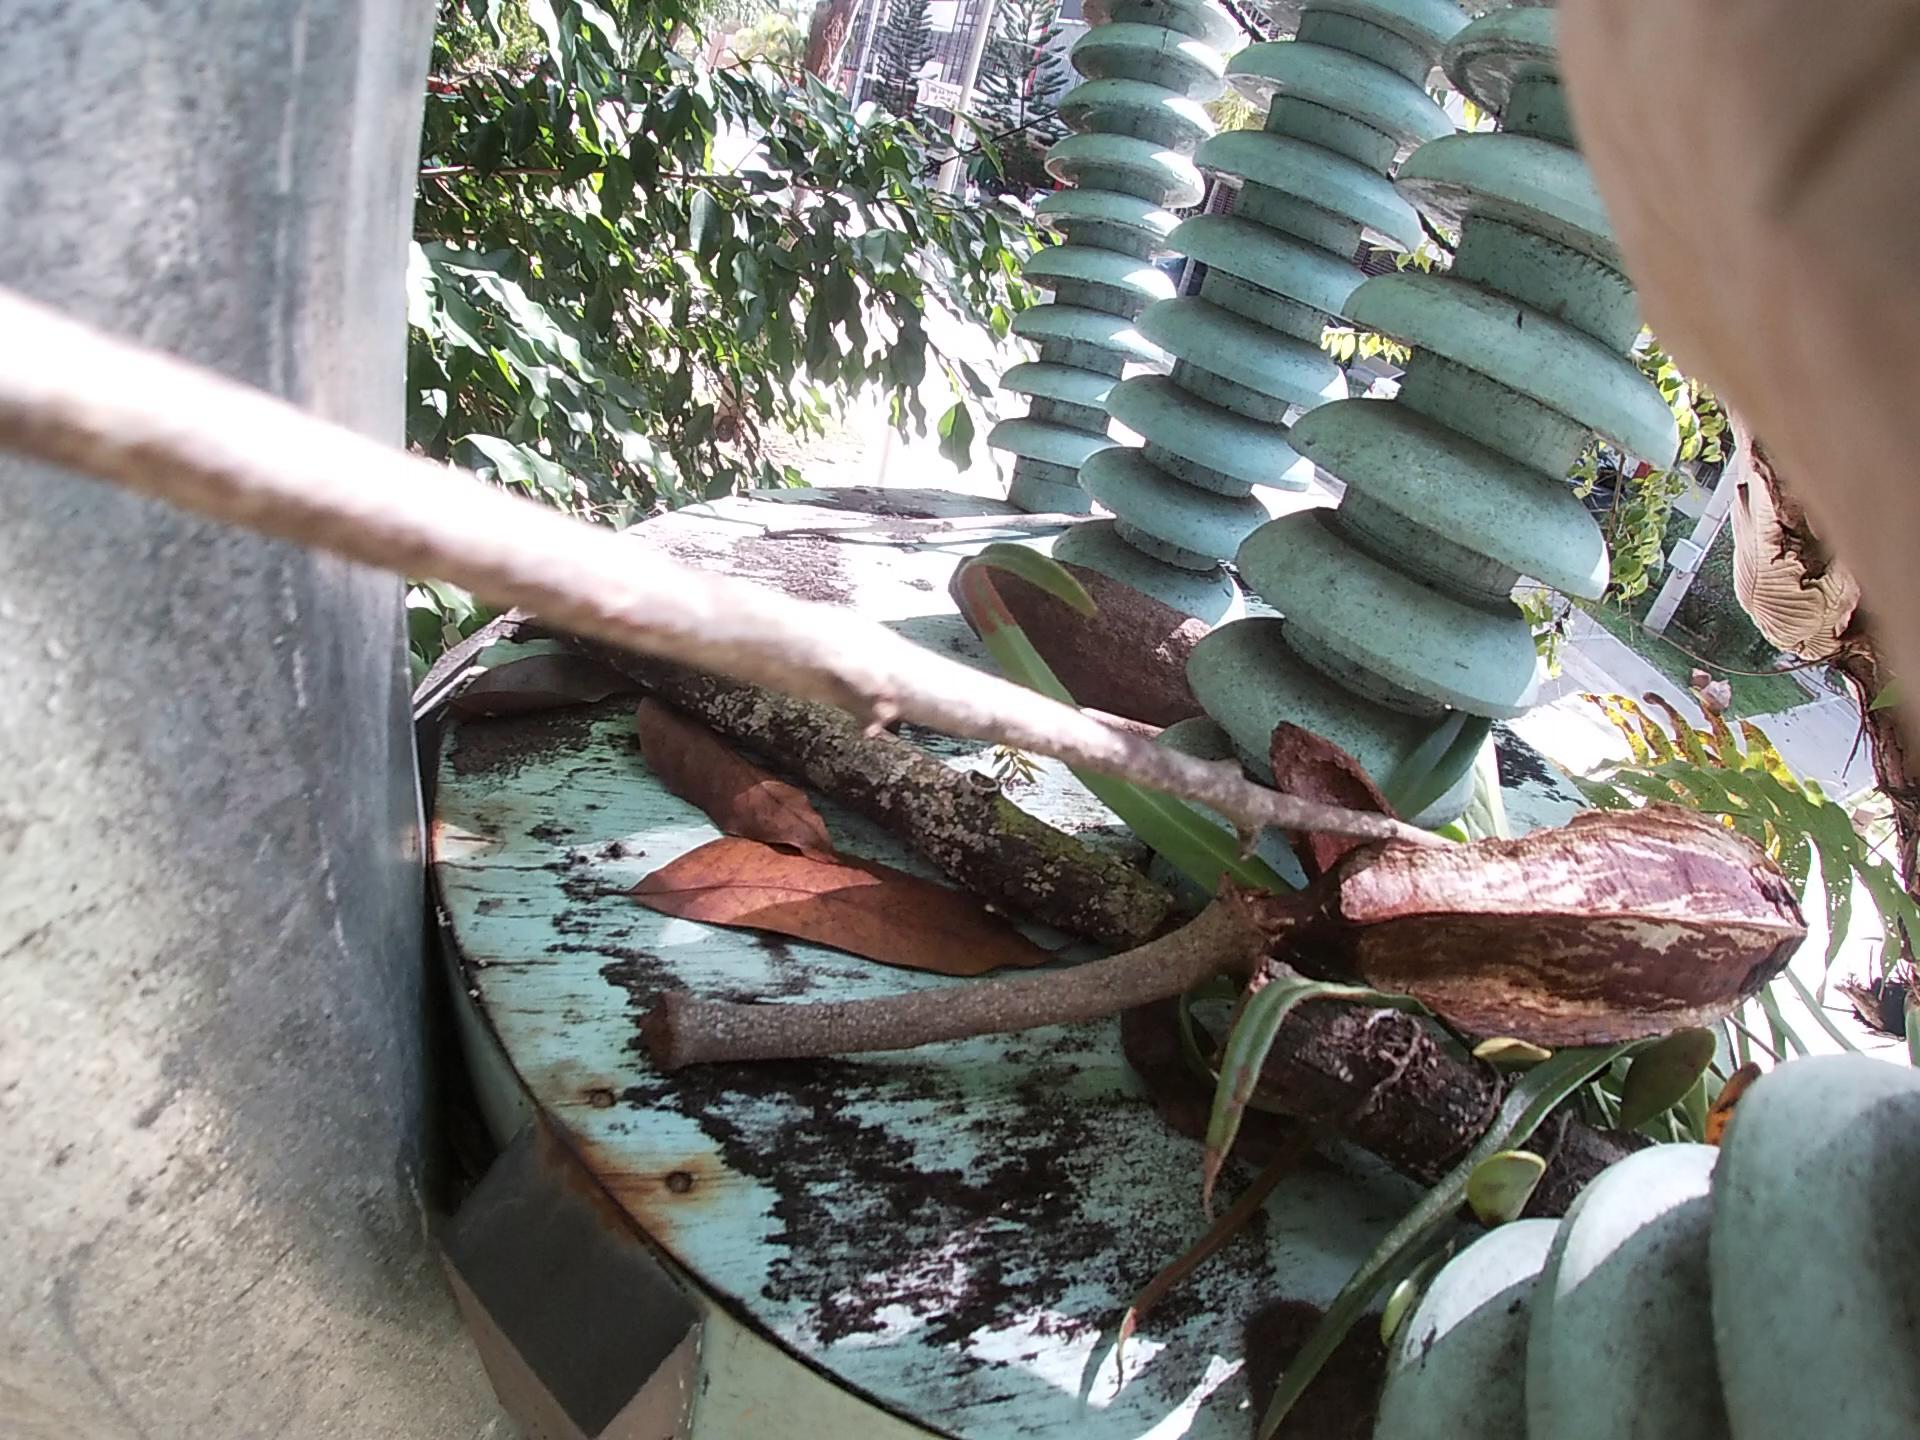branch with leaves: (503, 584, 1562, 1193)
leaf: (398, 576, 1051, 1038)
mahogany fruit: (1274, 806, 1828, 1075), (968, 501, 1297, 720), (1200, 681, 1474, 897)
tree branch: (51, 277, 1231, 790), (649, 942, 1194, 1097), (742, 504, 1070, 549)
